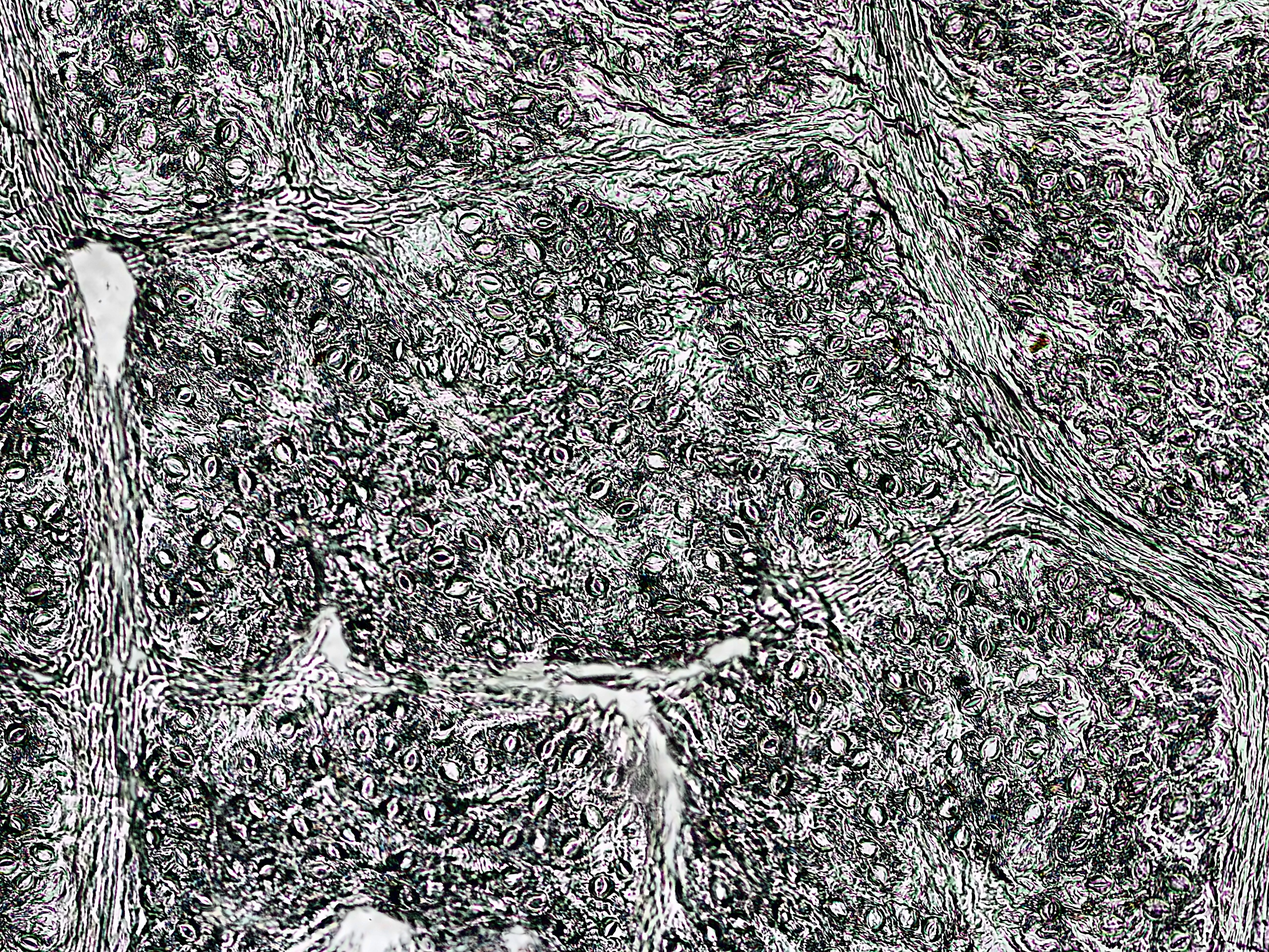stomata: (447, 811, 484, 853), (710, 332, 756, 362), (596, 414, 636, 448), (806, 822, 844, 856), (532, 41, 565, 80), (991, 152, 1028, 185), (582, 567, 615, 603), (251, 853, 284, 888), (1011, 656, 1043, 692), (1180, 112, 1221, 140), (352, 68, 387, 100), (504, 520, 529, 564), (462, 81, 492, 117), (675, 24, 715, 51), (411, 26, 443, 59), (718, 97, 753, 127), (516, 583, 545, 619), (848, 835, 888, 861), (887, 612, 919, 644), (618, 46, 649, 79), (1142, 183, 1171, 218), (806, 688, 833, 725), (1103, 167, 1130, 204), (1159, 54, 1190, 86), (1126, 27, 1158, 58), (412, 617, 445, 647), (381, 633, 411, 666), (1065, 760, 1088, 803), (903, 785, 929, 823), (949, 177, 987, 203), (1027, 132, 1065, 158), (360, 109, 394, 138), (27, 608, 62, 636), (1062, 711, 1098, 738), (552, 95, 578, 132), (215, 413, 254, 437), (434, 263, 460, 299), (674, 490, 700, 526), (642, 446, 674, 475), (127, 21, 152, 58), (958, 689, 991, 717), (821, 197, 855, 224), (1160, 426, 1208, 445), (310, 12, 336, 47), (502, 133, 543, 155), (406, 509, 435, 540), (584, 474, 615, 503), (370, 43, 403, 70), (1230, 313, 1267, 337), (933, 12, 970, 36), (641, 549, 675, 575), (1141, 896, 1175, 922), (472, 135, 498, 169), (667, 52, 707, 74), (945, 733, 968, 771), (445, 570, 474, 600), (460, 527, 491, 555), (199, 24, 221, 63), (175, 912, 201, 945), (505, 94, 542, 117), (1228, 349, 1265, 372), (1005, 293, 1042, 316), (734, 25, 771, 48), (411, 103, 445, 128), (1012, 80, 1052, 101), (1075, 601, 1103, 631), (816, 464, 843, 495), (614, 850, 641, 881), (1175, 262, 1206, 289), (161, 452, 193, 478), (217, 508, 249, 534), (862, 862, 894, 888), (559, 831, 585, 863), (883, 468, 909, 500), (1161, 646, 1193, 672), (1026, 697, 1059, 722), (269, 761, 293, 795), (618, 211, 640, 248), (519, 892, 556, 914), (232, 742, 260, 771), (611, 497, 641, 524), (594, 912, 624, 939), (837, 501, 864, 531), (975, 235, 1005, 262), (988, 201, 1018, 228), (911, 666, 937, 697), (928, 627, 959, 653), (685, 83, 716, 109), (828, 785, 863, 808), (1101, 72, 1136, 95), (1077, 645, 1112, 668), (474, 271, 506, 296), (828, 727, 853, 759), (158, 35, 180, 71), (1019, 737, 1055, 759), (659, 233, 692, 257), (287, 811, 315, 839), (306, 744, 333, 773), (1111, 692, 1140, 719), (878, 348, 905, 377), (561, 312, 591, 338), (28, 838, 58, 864), (755, 730, 785, 756), (913, 475, 943, 501), (538, 731, 563, 762), (1215, 181, 1246, 206), (970, 23, 1001, 48), (1087, 447, 1125, 467), (981, 731, 1004, 764), (555, 233, 582, 261), (1088, 261, 1124, 282), (580, 805, 609, 831), (865, 799, 890, 829), (1203, 145, 1228, 175), (248, 243, 282, 265), (470, 236, 504, 258), (922, 909, 944, 943), (1162, 714, 1196, 736), (784, 475, 808, 506), (1086, 872, 1117, 896), (869, 212, 893, 243), (317, 89, 337, 126), (521, 233, 544, 265), (172, 491, 204, 514), (426, 545, 458, 568), (182, 186, 217, 207), (235, 463, 256, 498), (1061, 669, 1082, 704), (1162, 931, 1197, 952), (629, 388, 656, 415), (880, 710, 908, 736), (100, 60, 125, 89), (181, 142, 206, 171), (1136, 375, 1165, 400), (54, 0, 83, 25), (135, 120, 159, 150), (1174, 344, 1210, 364), (854, 386, 890, 406), (58, 59, 80, 91), (706, 218, 728, 250), (531, 276, 558, 302), (170, 743, 197, 769), (983, 775, 1010, 801), (455, 622, 481, 649), (171, 91, 196, 119), (223, 154, 251, 179), (814, 415, 849, 435), (780, 334, 808, 359), (157, 875, 185, 900), (590, 872, 614, 901), (1056, 563, 1080, 592), (405, 70, 426, 103), (273, 436, 296, 466), (143, 823, 166, 853), (282, 275, 301, 311), (458, 213, 489, 235), (170, 708, 201, 730), (770, 766, 792, 797), (724, 524, 750, 550), (440, 757, 466, 783), (5, 720, 30, 747), (1055, 200, 1082, 225), (404, 148, 431, 173), (331, 272, 355, 300), (26, 408, 54, 432), (41, 499, 69, 523), (1093, 358, 1121, 382), (973, 633, 997, 661), (115, 85, 150, 104), (699, 593, 729, 615), (1201, 77, 1223, 107), (580, 338, 610, 360), (1090, 221, 1121, 242), (476, 595, 501, 621), (1126, 775, 1152, 800), (977, 567, 1003, 592), (648, 252, 674, 277), (168, 289, 204, 307), (531, 209, 558, 233), (486, 638, 513, 662), (771, 229, 795, 256), (1038, 167, 1062, 194), (1095, 744, 1122, 768), (1181, 320, 1215, 339), (875, 431, 903, 454), (1162, 484, 1190, 507), (1232, 397, 1260, 420), (1108, 831, 1136, 854), (1066, 167, 1089, 195), (1198, 774, 1221, 802), (1015, 604, 1035, 636), (1164, 872, 1196, 892), (219, 119, 241, 148), (805, 508, 834, 530), (473, 747, 495, 776), (239, 295, 269, 316), (225, 27, 246, 57), (705, 548, 726, 578), (1020, 59, 1050, 80), (700, 281, 730, 302), (1007, 730, 1024, 767), (496, 329, 521, 354), (524, 331, 548, 357), (563, 21, 589, 45), (797, 369, 823, 393), (570, 746, 597, 769), (727, 758, 750, 785), (215, 545, 235, 576), (350, 15, 370, 46), (87, 108, 109, 136), (864, 318, 892, 340), (1103, 295, 1131, 317), (1220, 248, 1241, 277), (954, 576, 973, 608), (571, 194, 595, 219), (740, 401, 765, 425), (259, 540, 279, 570), (368, 396, 391, 422), (1057, 54, 1083, 77), (1246, 90, 1269, 116), (825, 332, 851, 355), (422, 448, 444, 475), (446, 461, 468, 488), (245, 10, 267, 37), (1126, 404, 1153, 426), (885, 664, 907, 691), (1100, 912, 1127, 934), (848, 456, 870, 483), (1238, 140, 1265, 162), (765, 53, 796, 72), (576, 392, 604, 413), (449, 124, 477, 145), (1068, 833, 1096, 854), (1050, 619, 1071, 647), (485, 303, 519, 320), (1252, 250, 1269, 284), (704, 2, 738, 19), (195, 527, 219, 551), (1246, 207, 1269, 232), (193, 889, 218, 912), (24, 577, 50, 599), (1171, 794, 1193, 820), (0, 364, 26, 386), (838, 358, 868, 377), (669, 4, 702, 21), (245, 55, 265, 83), (1137, 337, 1165, 357), (355, 722, 373, 753), (1187, 208, 1205, 239), (552, 441, 574, 466), (400, 748, 421, 774), (1089, 421, 1115, 442), (869, 903, 887, 933), (954, 824, 974, 851), (1230, 284, 1260, 302), (793, 297, 812, 325), (1026, 23, 1054, 42), (20, 546, 43, 569), (181, 782, 204, 805), (1134, 856, 1152, 885), (424, 352, 444, 378), (1044, 896, 1064, 922), (783, 177, 800, 207), (153, 788, 175, 811), (22, 929, 44, 952), (471, 346, 489, 374), (309, 311, 329, 336), (204, 452, 220, 483), (1083, 23, 1116, 38), (156, 580, 175, 606), (503, 823, 521, 850), (4, 335, 26, 357), (742, 500, 764, 522), (499, 730, 520, 753), (758, 696, 779, 719), (803, 138, 824, 161), (753, 365, 774, 388), (232, 379, 256, 399), (613, 286, 643, 302), (573, 425, 598, 444), (200, 340, 218, 366), (397, 570, 415, 596), (5, 464, 31, 482), (825, 232, 851, 250), (1026, 801, 1044, 827), (0, 852, 21, 874), (152, 549, 176, 568), (748, 460, 766, 485), (534, 788, 549, 818), (974, 0, 1006, 14), (241, 339, 267, 356), (346, 416, 368, 436), (535, 361, 555, 383), (789, 656, 806, 681), (19, 510, 40, 530), (9, 812, 28, 834), (205, 631, 231, 647), (654, 601, 686, 614), (657, 352, 673, 378), (387, 792, 402, 819), (189, 577, 210, 596), (848, 276, 869, 295), (760, 267, 777, 290), (140, 375, 155, 401), (392, 336, 407, 362), (794, 267, 810, 291), (361, 776, 377, 799), (348, 357, 361, 385), (324, 348, 345, 365), (246, 798, 267, 815), (668, 400, 683, 423), (423, 803, 438, 826), (509, 360, 527, 379), (281, 718, 298, 738), (327, 841, 344, 861), (684, 444, 697, 466), (175, 388, 192, 404), (928, 335, 944, 350), (1260, 48, 1269, 68)
